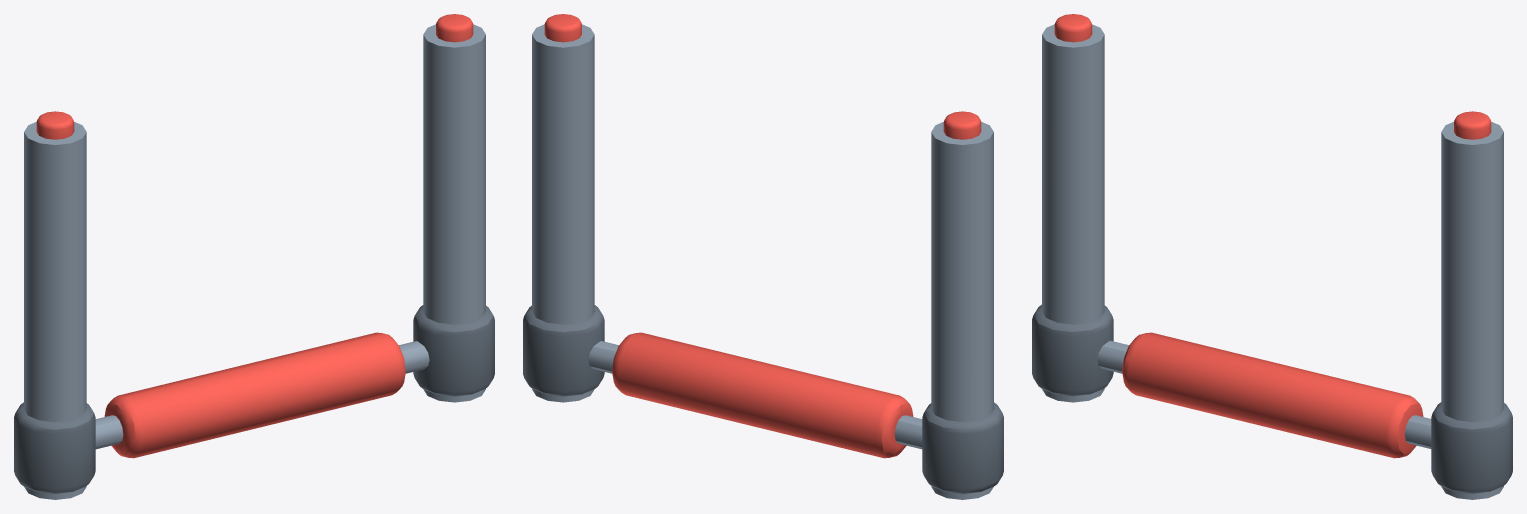
Rendered from HorizontalStick01.fbx.
3 renders of one model, left to right at view 1: azimuth 30°, elevation 25°; view 2: azimuth 150°, elevation 25°; view 3: azimuth 330°, elevation 25°, orthographic.
Visible parts, largest first — view 1: HorizontalStickBase, HorizontalStick; view 2: HorizontalStickBase, HorizontalStick; view 3: HorizontalStickBase, HorizontalStick.
Boxes of the visible parts, x1=… form: HorizontalStickBase: x1=24, y1=14, x2=485, y2=499; HorizontalStick: x1=14, y1=305, x2=494, y2=493; HorizontalStickBase: x1=532, y1=14, x2=993, y2=499; HorizontalStick: x1=523, y1=305, x2=1003, y2=493; HorizontalStickBase: x1=1042, y1=14, x2=1503, y2=499; HorizontalStick: x1=1032, y1=304, x2=1512, y2=493.
Size of the model in its own units: 693 by 520 by 104.
